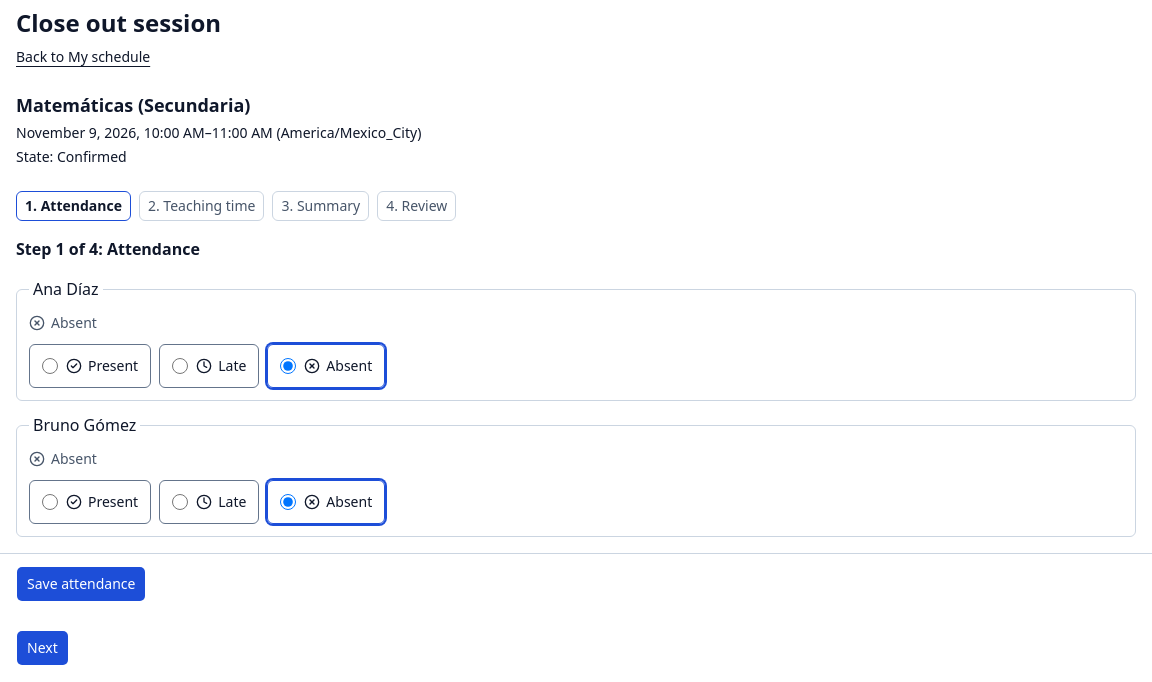
Test case: the closeout flow (G1) › makes the summary optional when everyone is absent
This screenshot has width=1152, height=682.
(page scrolled)
Click the button "Next".
click(42, 648)  # box [16, 630, 69, 666]
(page scrolled)
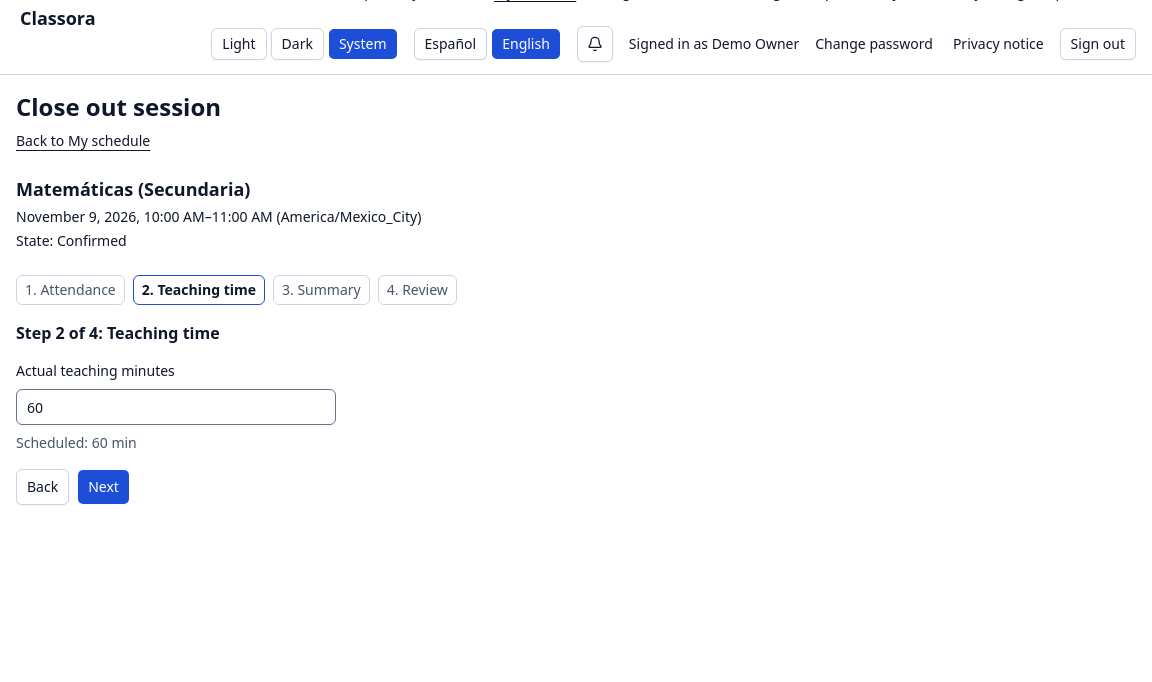
Click the button "Next".
click(104, 487)  # box [77, 469, 130, 505]
(page scrolled)
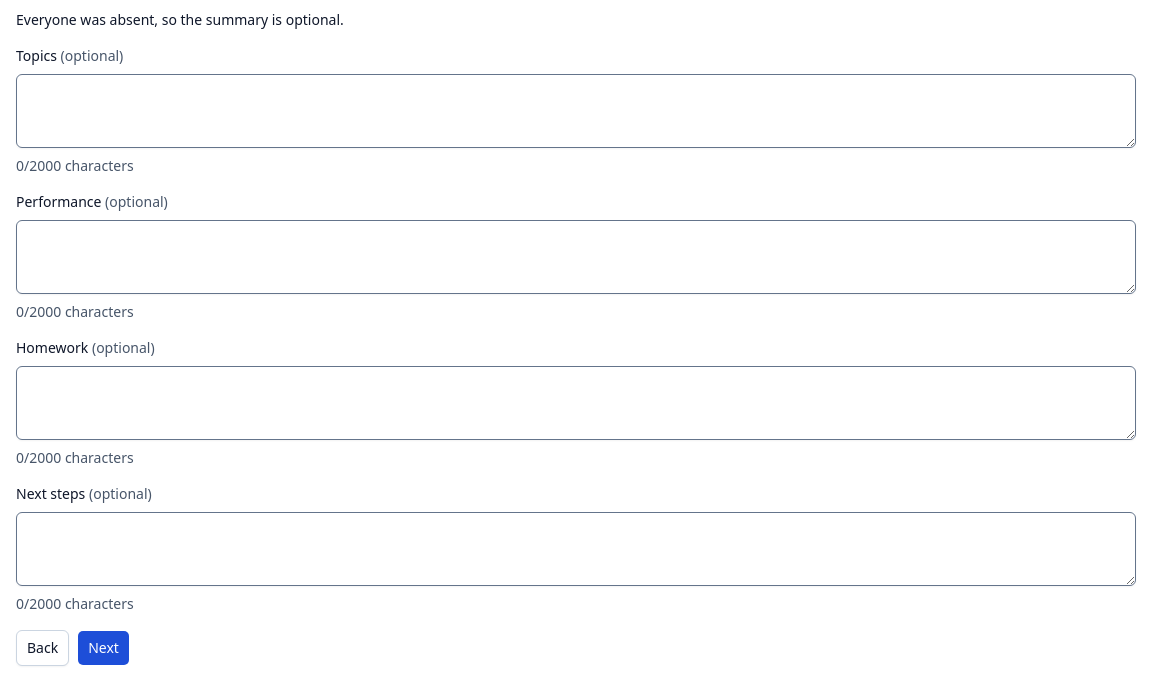
Click the button "Next".
click(104, 648)  # box [77, 630, 130, 666]
(page scrolled)
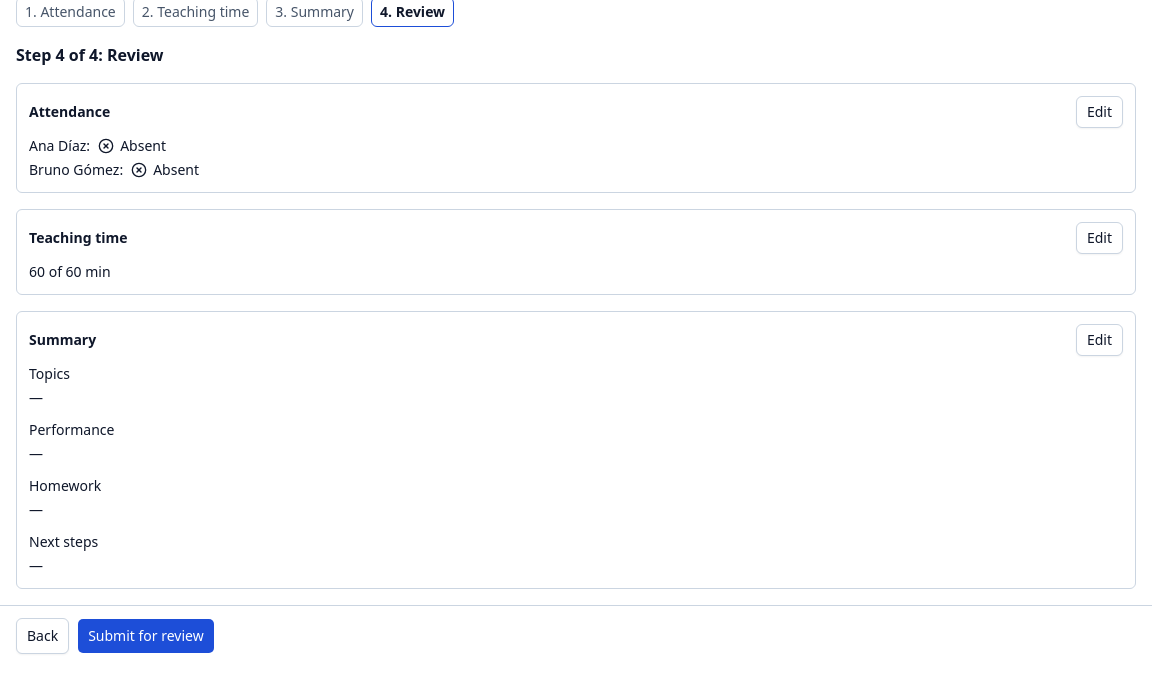
Result: the heading "Step 4 of 4: Review" is shown at [16, 44, 164, 66]
